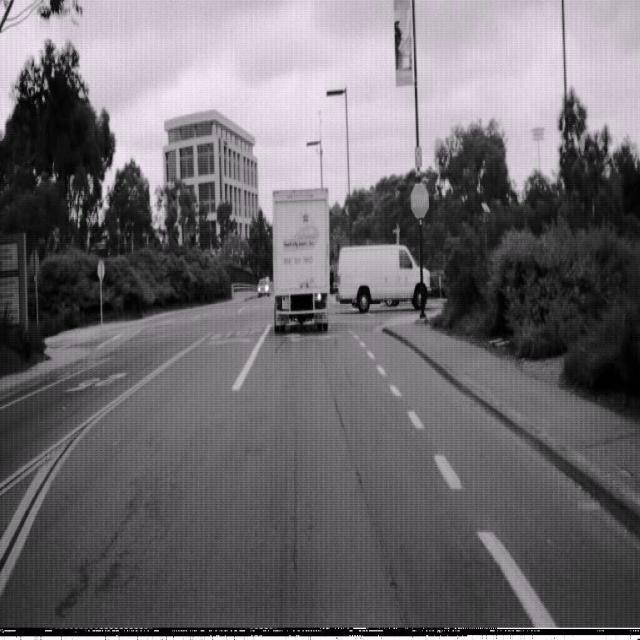stop_sign: (410, 182, 429, 220)
